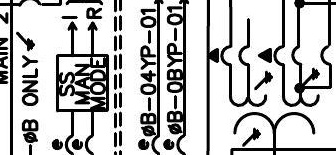115_vt_1p: (207, 44, 321, 148)
ss_man_mode: (55, 53, 110, 113)
